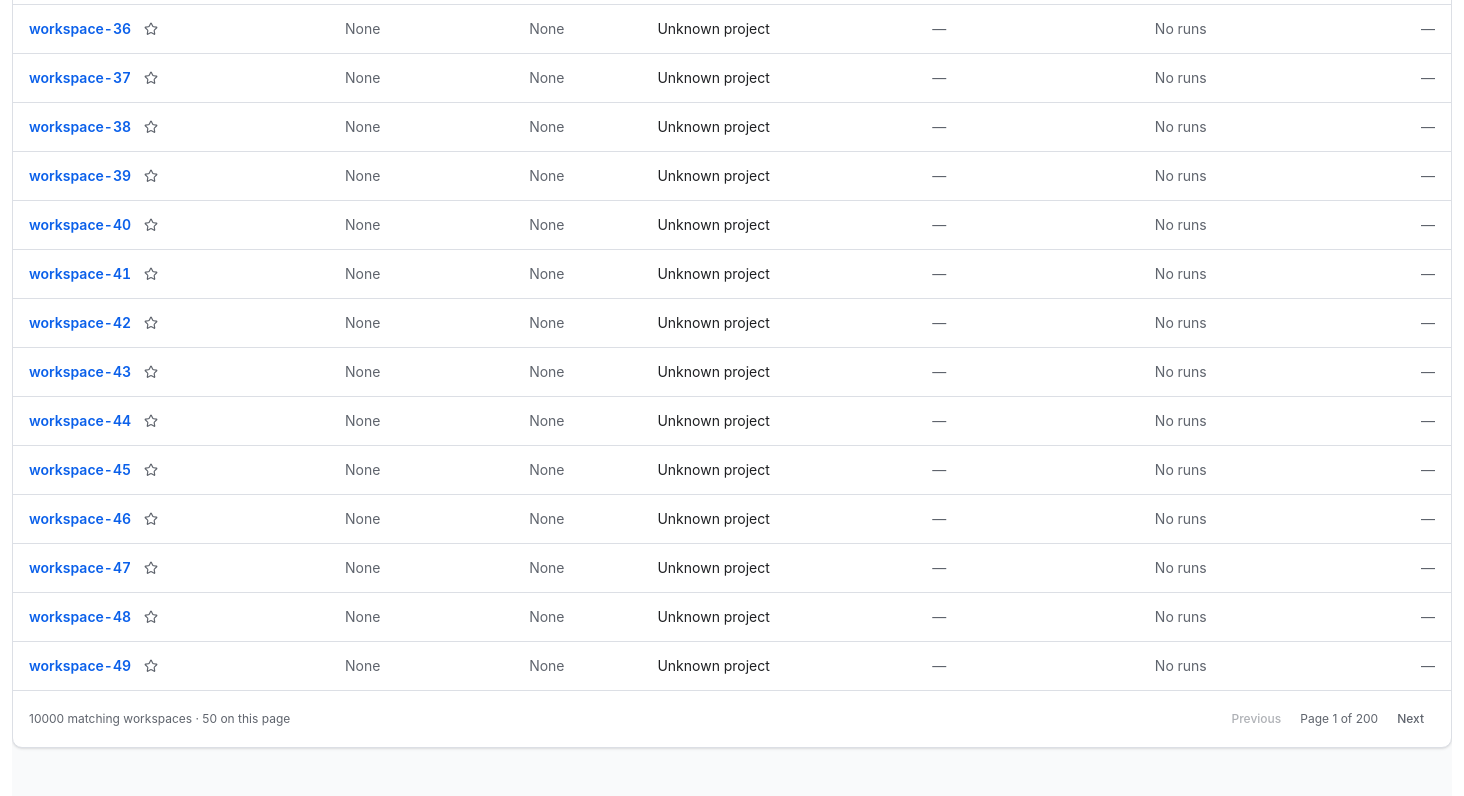
Test: renders one bounded page before auxiliary metadata, cancels old filters and resets pagination
The width and height of the screenshot is (1464, 796).
(page scrolled)
Expected: the text "Page 1 of 200" is shown, [1300,711,1378,727]
Click the button "Next": (1411, 719) [1386,703,1435,735]
(page scrolled)
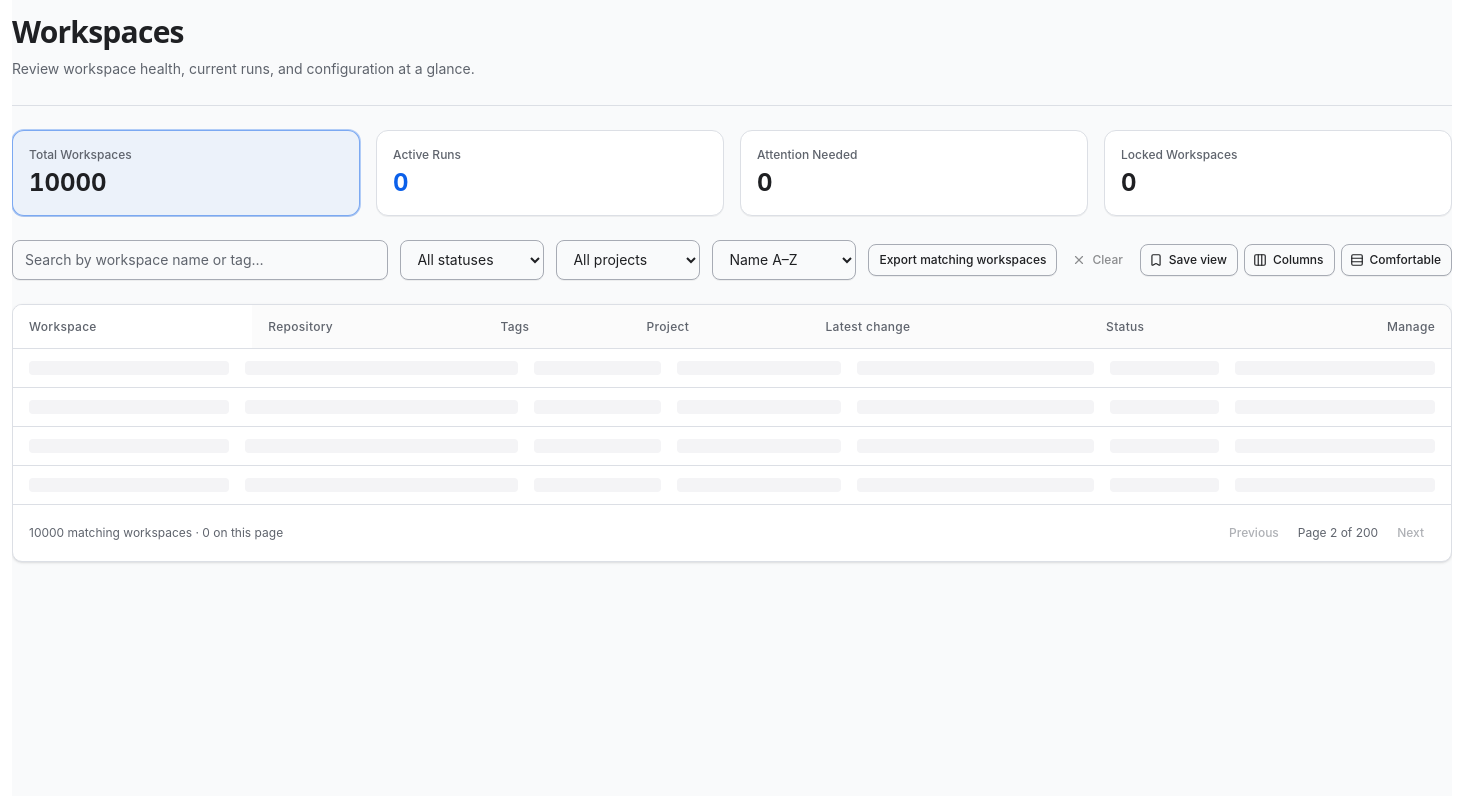
In the search field named "Search workspaces": (200, 260) [12,240,388,280], type "needle"
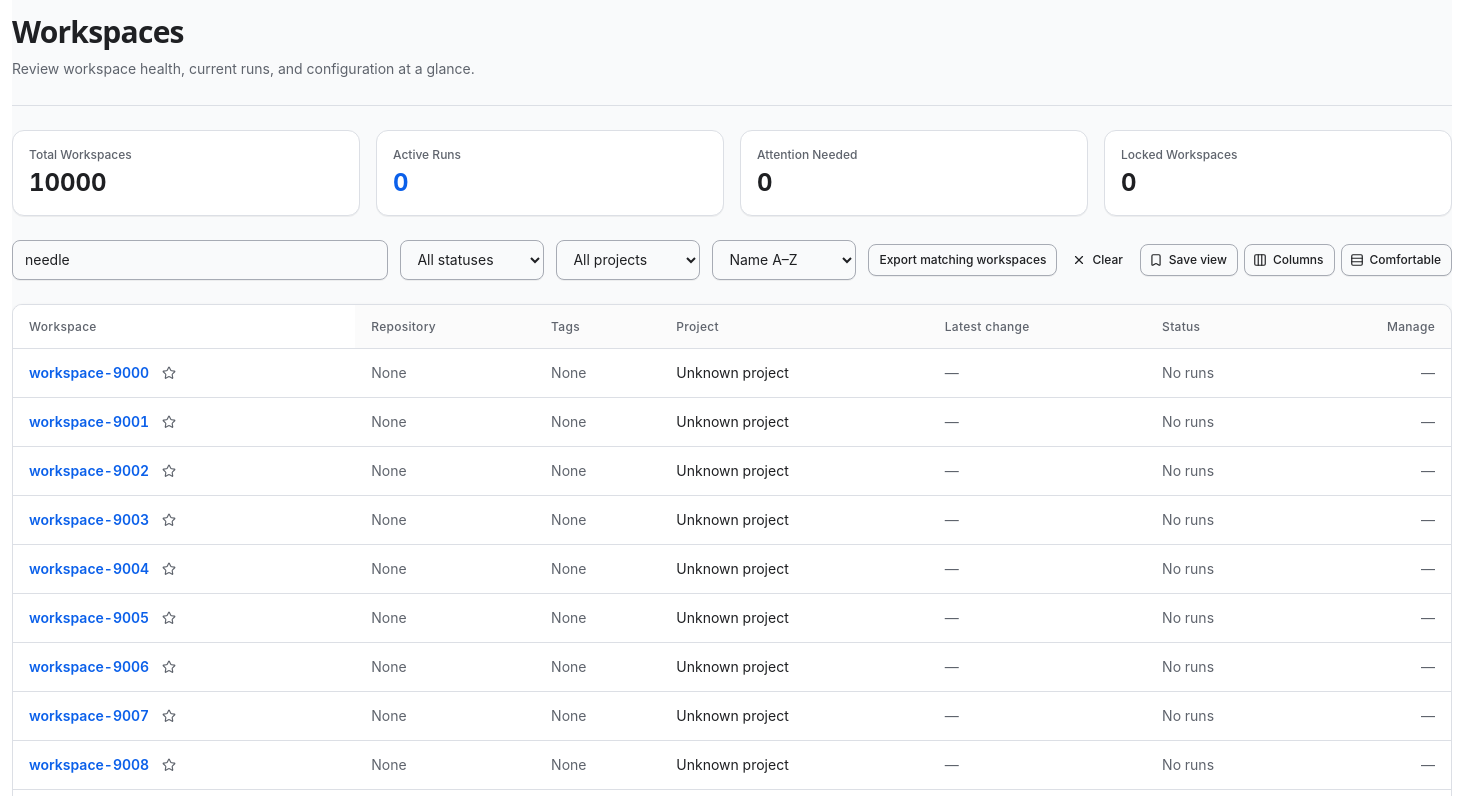
Expected: the link "workspace-9000" is shown, [29,363,149,383]
Clear the search field named "Search workspaces": (200, 260) [12,240,388,280]
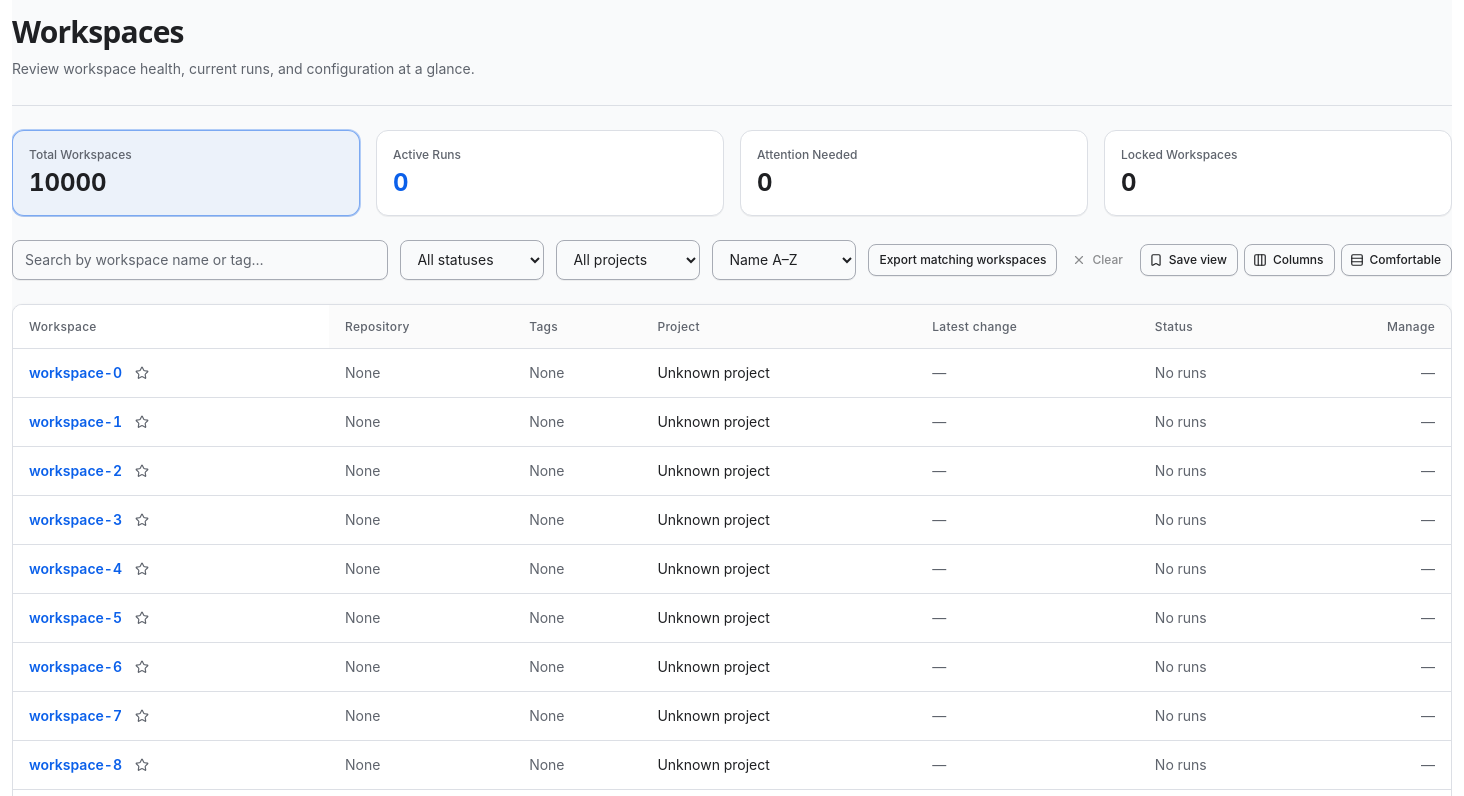
Expected: the link "workspace-0" is shown, [29,363,122,383]
